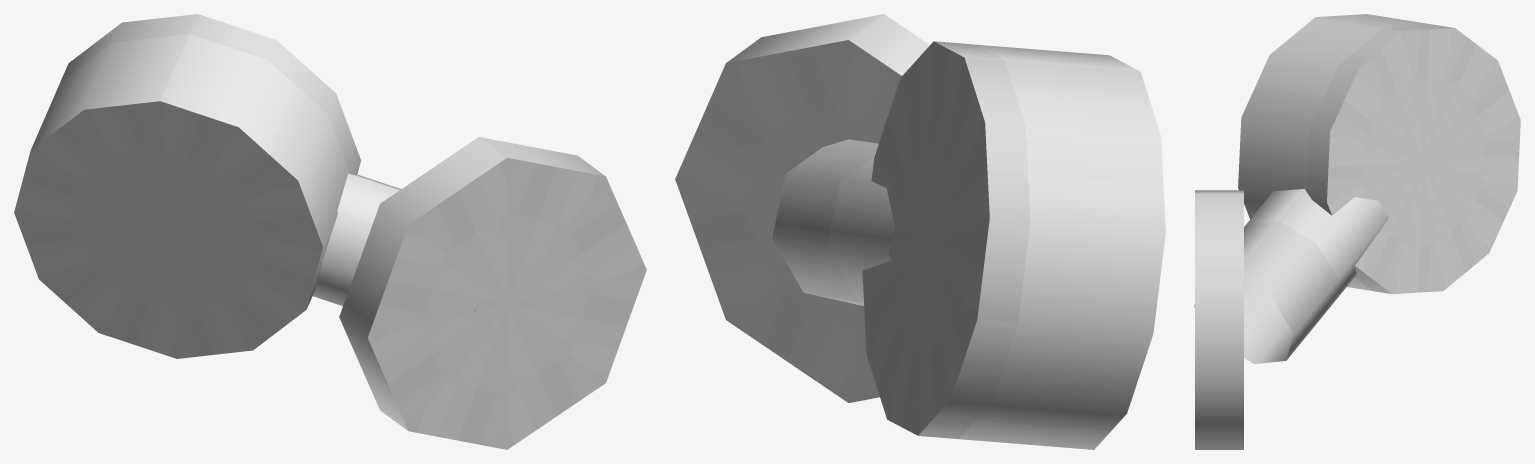
File: nycsignalarm_stub_243.obj
The picture shows the model from 3 angles, left to right: view 1: azimuth 30°, elevation 25°; view 2: azimuth 150°, elevation 25°; view 3: azimuth 270°, elevation 25°; orthographic projection. The views are drawn at different scales.
Visible parts, largest first — view 1: nycsignalarm_stub_243; view 2: nycsignalarm_stub_243; view 3: nycsignalarm_stub_243.
Part boxes in pixels (bbox=[...]): nycsignalarm_stub_243: bbox=[14, 14, 646, 449]; nycsignalarm_stub_243: bbox=[675, 14, 1165, 449]; nycsignalarm_stub_243: bbox=[1194, 14, 1520, 449].
Size of the model in its own units: 0.6198 by 0.4697 by 0.4139.
